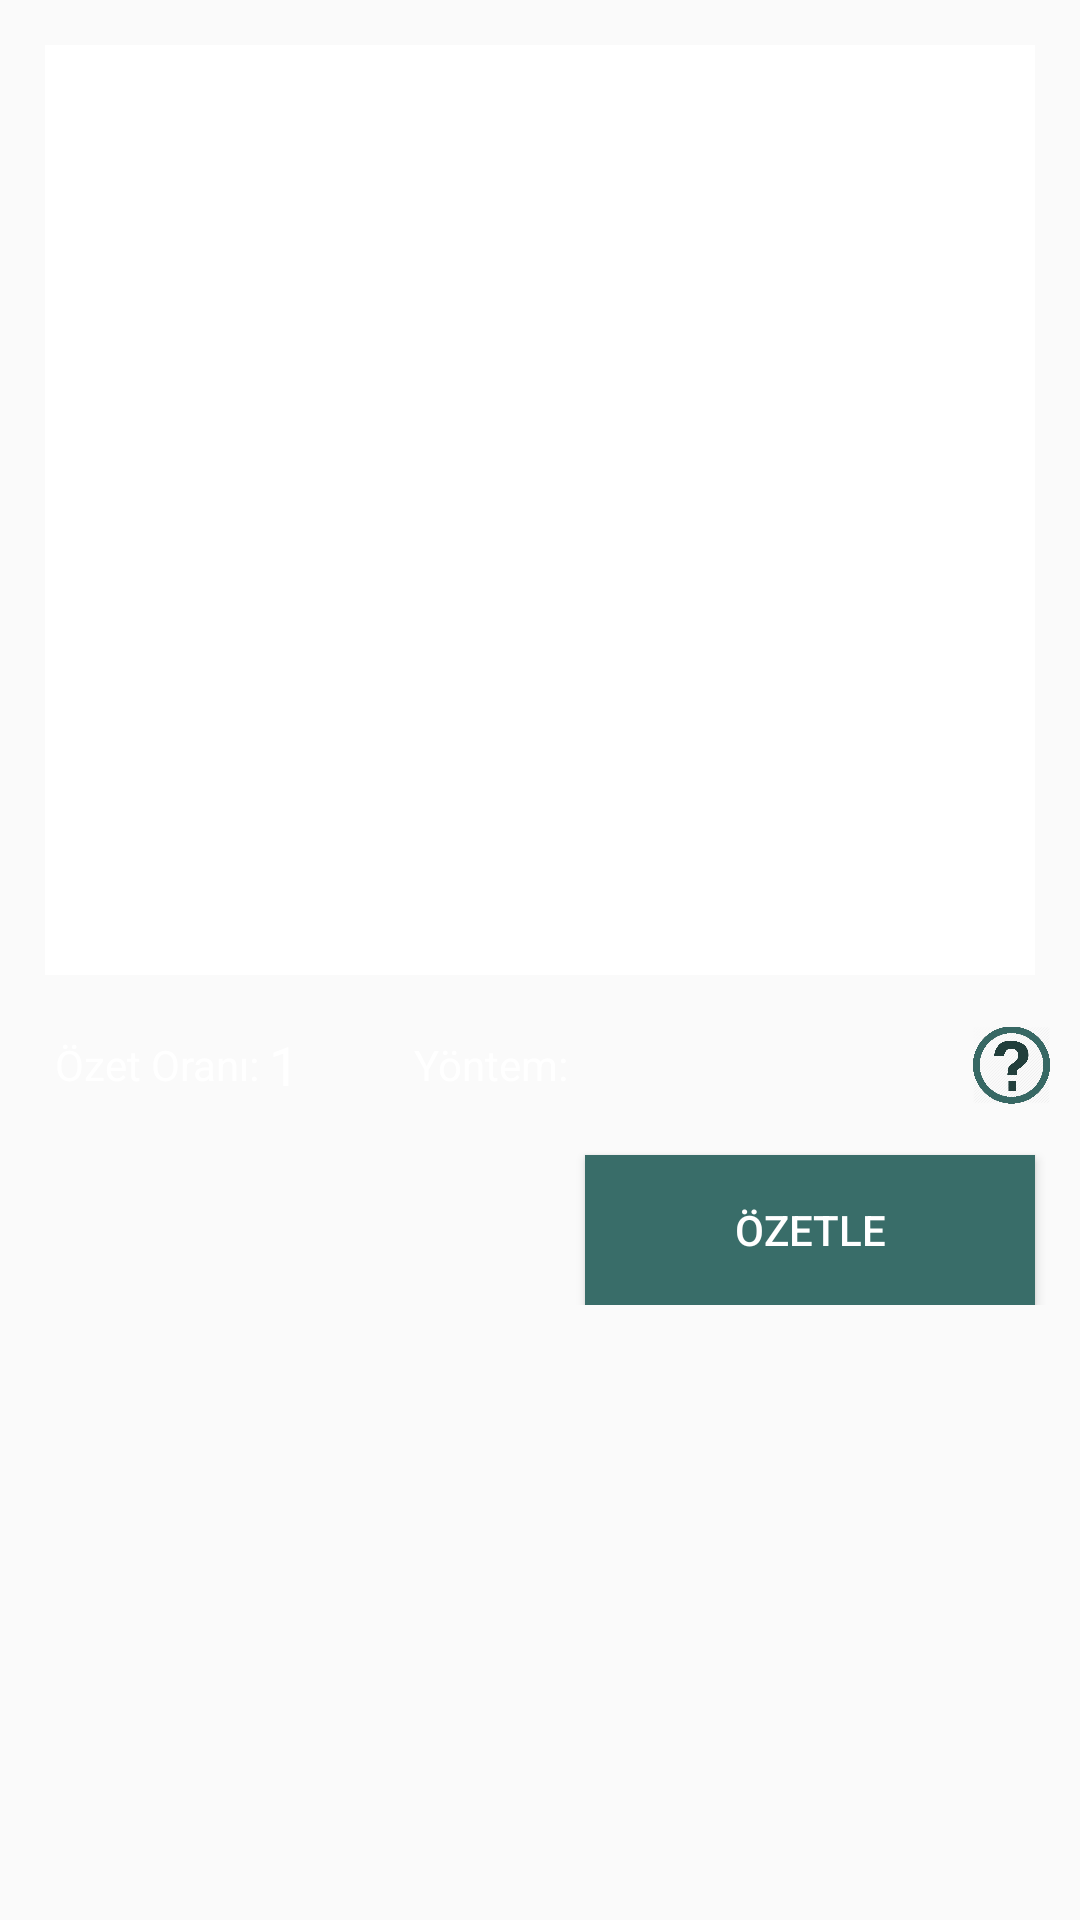

Screen size 1080 × 1920. Icon name, then its center in pixels as [x,y]:
info: [1011,1065]
